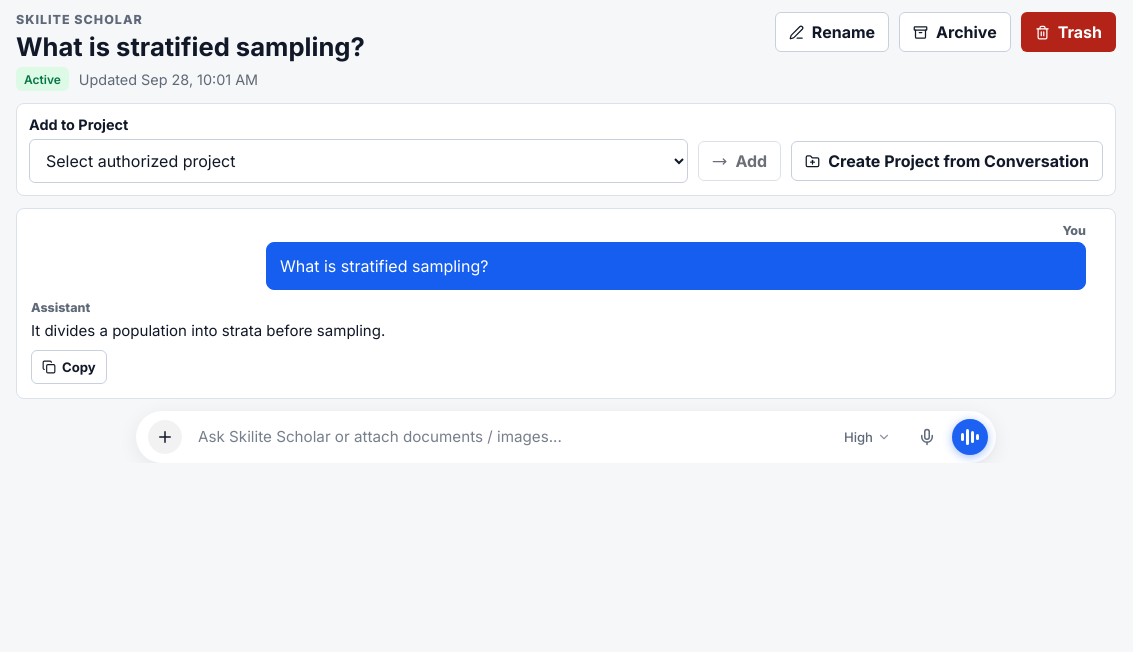
Test: ConversationWorkspacePage › loads a conversation on route refresh and continues it
Expected: the heading "What is stratified sampling?" is shown, [16, 33, 365, 61]
Expected: the text "It divides a population into strata before sampling." is shown, [31, 321, 385, 340]
Type "Can you give an example?" into the text box named "message". click: (507, 437)
box: [192, 418, 823, 456]
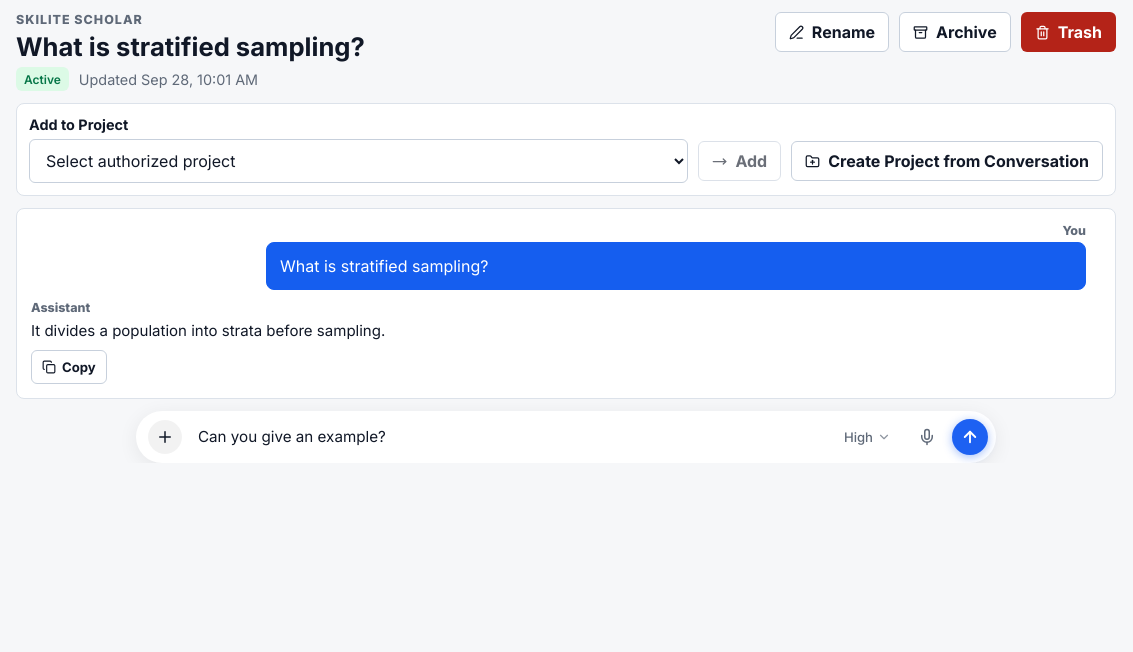
Click the button named "send". click: (970, 438)
box: [952, 420, 988, 456]
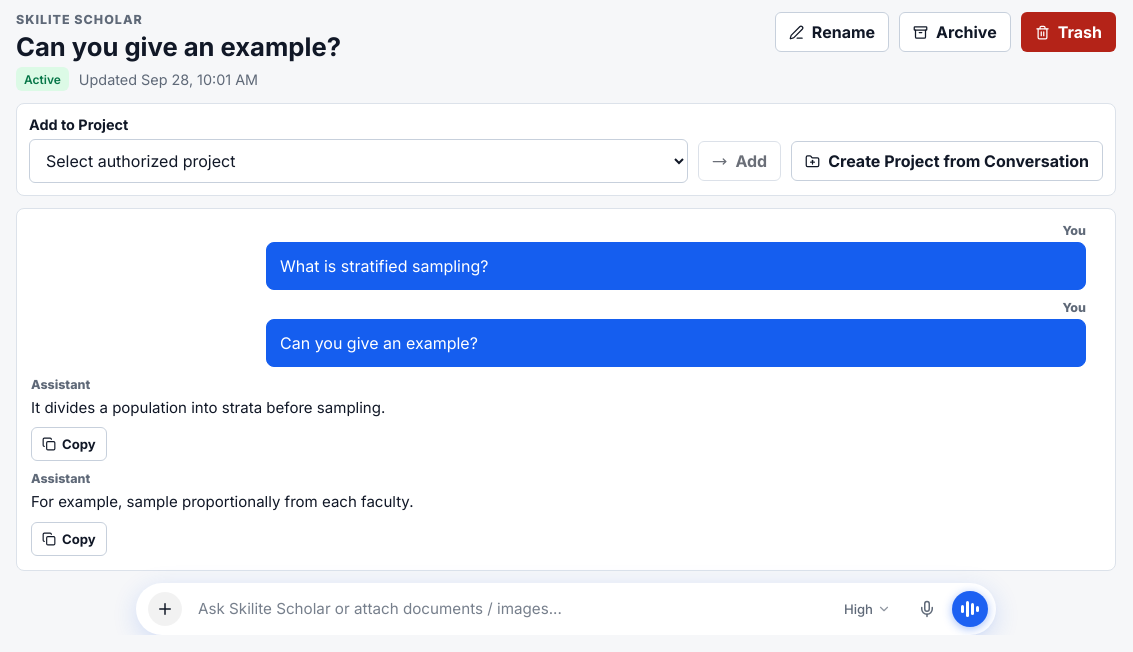
Now the text "For example, sample proportionally from each faculty." is shown, box [31, 492, 414, 512]
